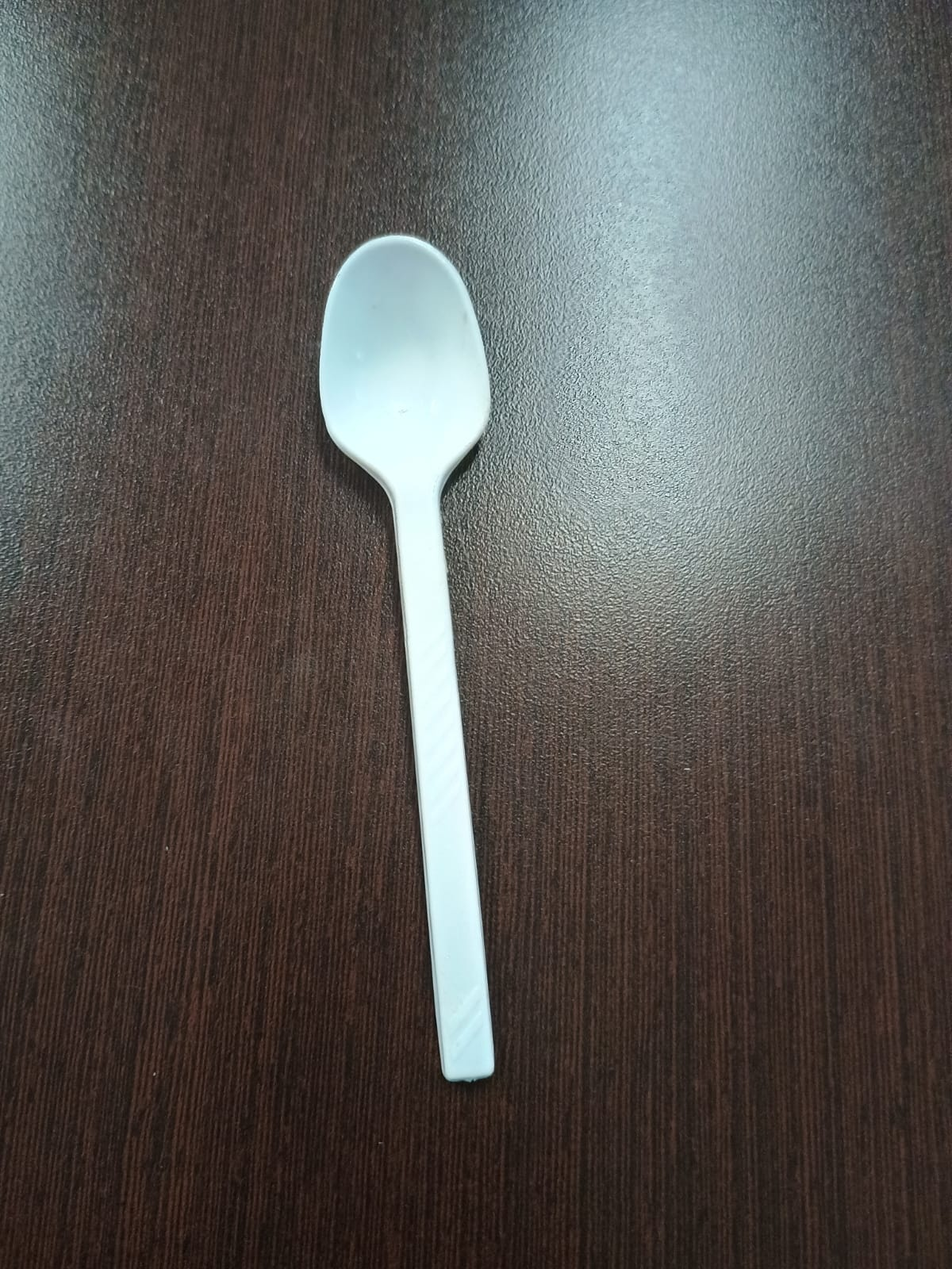Ordinario: (313, 232, 494, 1080)
